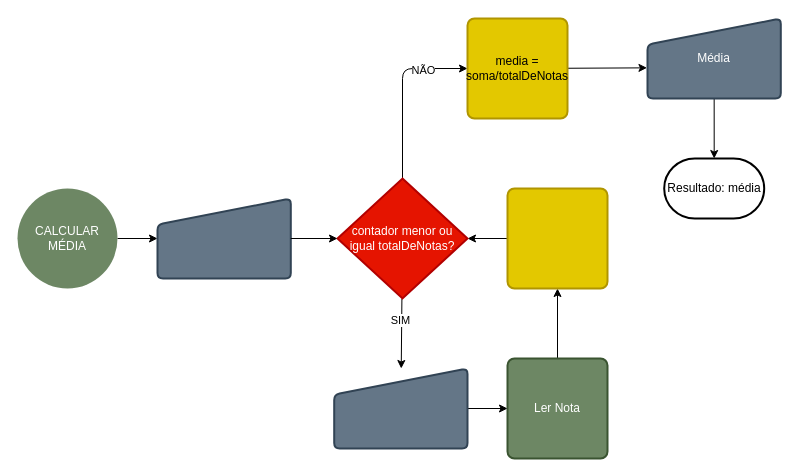
Image size: 799x476. Some labels were removed from this diagram. Each missing label, with the box of its shape:
Informe a nota N: (333, 367, 468, 449)
soma = soma + notaAtual; contador++: (506, 187, 608, 289)
Total de Notas: (156, 197, 291, 279)
